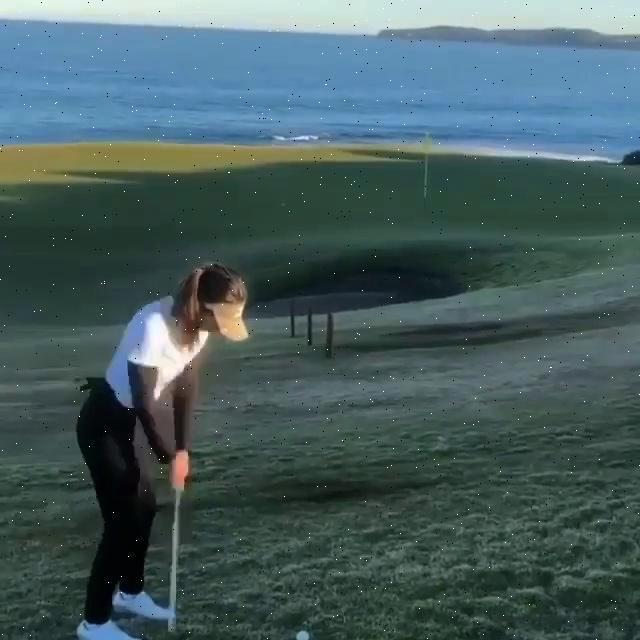GolfBall: (295, 629, 309, 640)
